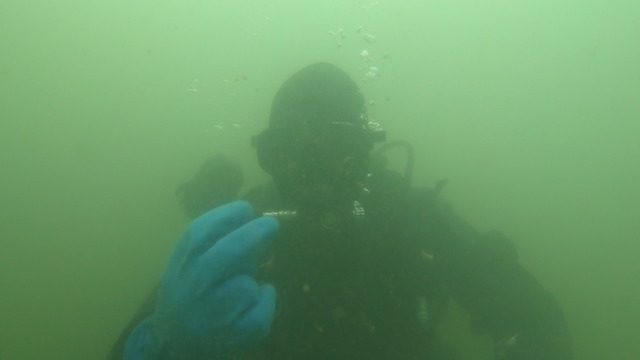Head: (229, 47, 412, 243)
